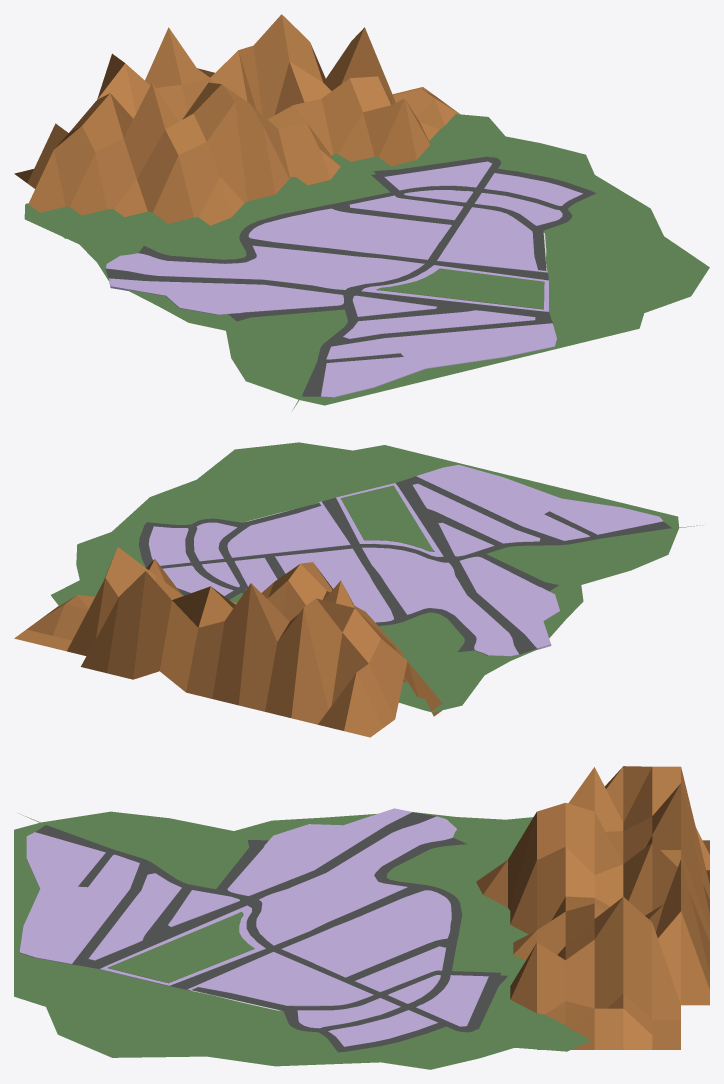
The model's file is Map with River.fbx.
The picture shows the model from 3 angles, top to bottom: view 1: azimuth 30°, elevation 25°; view 2: azimuth 150°, elevation 25°; view 3: azimuth 270°, elevation 25°; orthographic projection. The views are drawn at different scales.
Visible parts, largest first — view 1: Mountains, Base Plane For map, Roads, Curb Area 3.001, Curb Area 13, Curb Area 14, Curb Area 9, Base Plane For map.001, Park Area, Curb Area 12, Curb Area 6, Curb Area 7 (+5 smaller); view 2: Mountains, Base Plane For map, Roads, Curb Area 3.001, Base Plane For map.001, Curb Area 13, Curb Area 14, Curb Area 9, Park Area, Curb Area 12, Curb Area 7, Extra road.002 (+6 smaller); view 3: Base Plane For map, Mountains, Roads, Curb Area 3.001, Curb Area 13, Base Plane For map.001, Curb Area 14, Curb Area 9, Park Area, Curb Area 12, Curb Area 6, Curb Area 7 (+6 smaller).
Boxes of the visible parts, x1,y1,x2,y2 form: Mountains: [14, 14, 459, 238]; Base Plane For map: [24, 114, 709, 410]; Roads: [105, 156, 595, 396]; Curb Area 3.001: [106, 208, 451, 289]; Curb Area 13: [321, 323, 556, 397]; Curb Area 14: [109, 278, 343, 314]; Curb Area 9: [437, 207, 547, 272]; Base Plane For map.001: [127, 120, 638, 404]; Park Area: [376, 268, 544, 309]; Curb Area 12: [343, 310, 535, 338]; Curb Area 6: [384, 161, 491, 190]; Curb Area 7: [484, 173, 582, 206]; Mountains: [14, 547, 442, 737]; Base Plane For map: [51, 442, 705, 712]; Roads: [138, 476, 671, 654]; Curb Area 3.001: [275, 547, 519, 656]; Base Plane For map.001: [56, 446, 678, 637]; Curb Area 13: [416, 464, 663, 540]; Curb Area 14: [459, 556, 559, 649]; Curb Area 9: [227, 501, 350, 557]; Park Area: [340, 485, 434, 551]; Curb Area 12: [412, 483, 540, 543]; Curb Area 7: [148, 526, 190, 565]; Extra road.002: [218, 499, 335, 599]; Base Plane For map: [14, 811, 591, 1069]; Mountains: [476, 766, 709, 1049]; Roads: [35, 812, 507, 1052]; Curb Area 3.001: [256, 816, 457, 977]; Curb Area 13: [19, 832, 139, 964]; Base Plane For map.001: [14, 814, 534, 1061]; Curb Area 14: [227, 808, 412, 896]; Curb Area 9: [187, 952, 373, 1006]; Park Area: [107, 911, 254, 983]; Curb Area 12: [88, 873, 181, 960]; Curb Area 6: [416, 975, 488, 1026]; Curb Area 7: [328, 1010, 437, 1046].
Bounding box in the file's own units: 90948 × 22558 × 102588.
